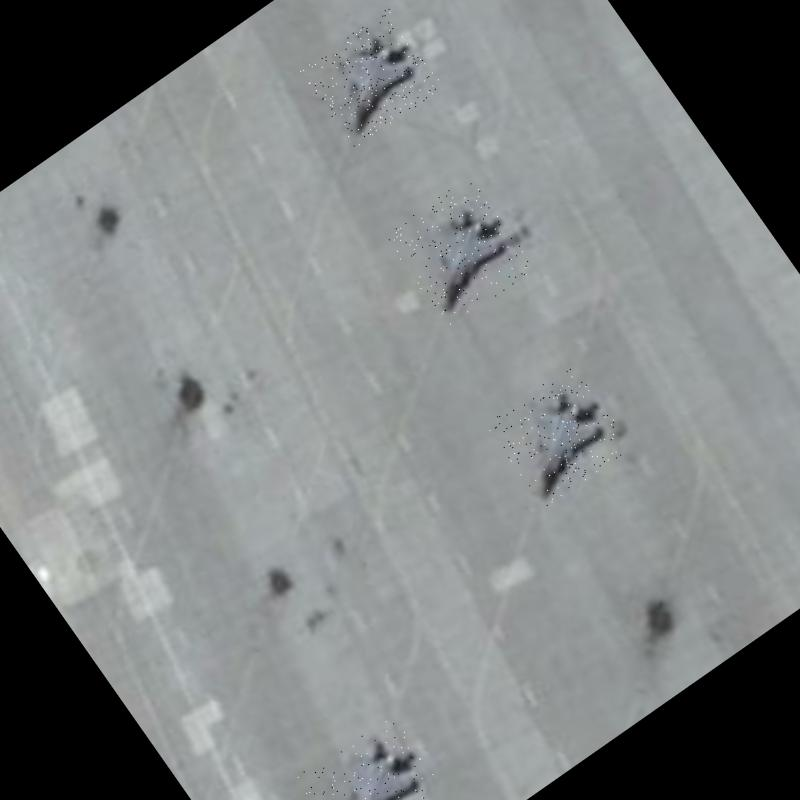A13: (384, 174, 537, 329), (485, 362, 634, 509), (299, 7, 444, 150), (290, 708, 454, 800)
